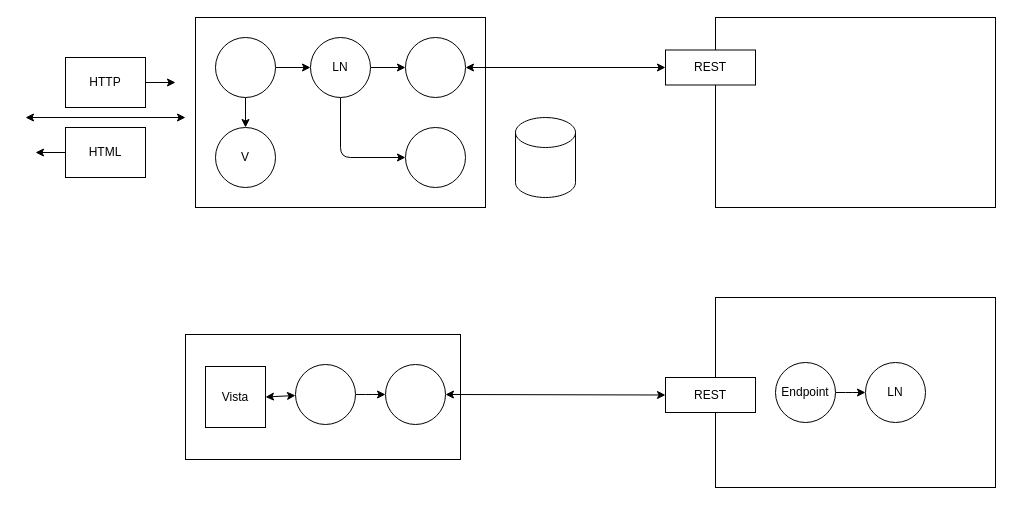
This 1013x505 diagram has some shape labels left out. Each missing label, with the box of its shape:
Componente LC: (294, 364, 356, 424)
LC: (214, 36, 276, 98)
proxy: (404, 36, 466, 98)
Servicios: (384, 364, 446, 424)
Stub: (404, 126, 466, 188)
